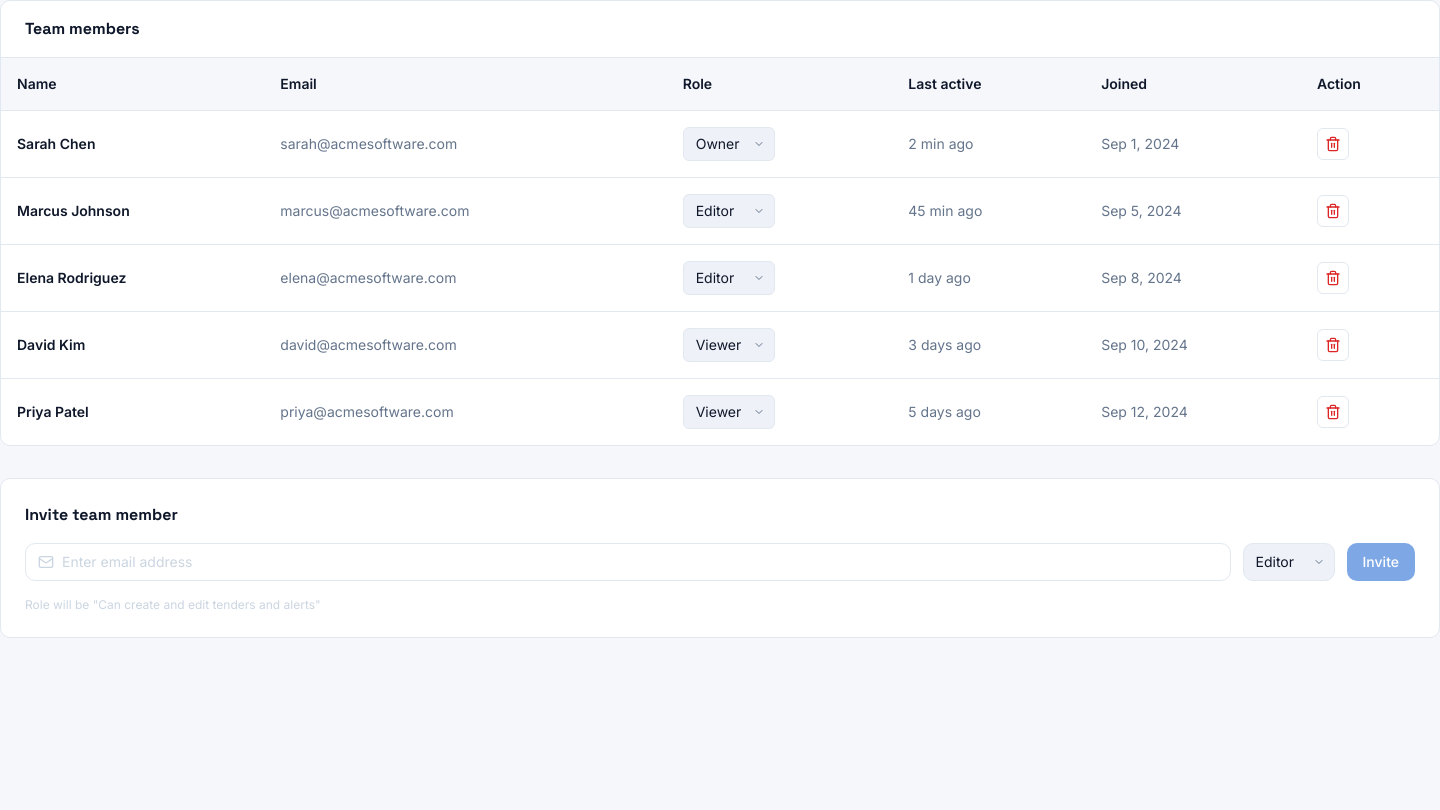
Test: TeamSection › allows canceling removal confirmation
The image size is (1440, 810).
Click the button titled "Remove member" in the row of "Sarah Chen" at (1333, 144), box top-left (1317, 128), bottom-right (1349, 160)
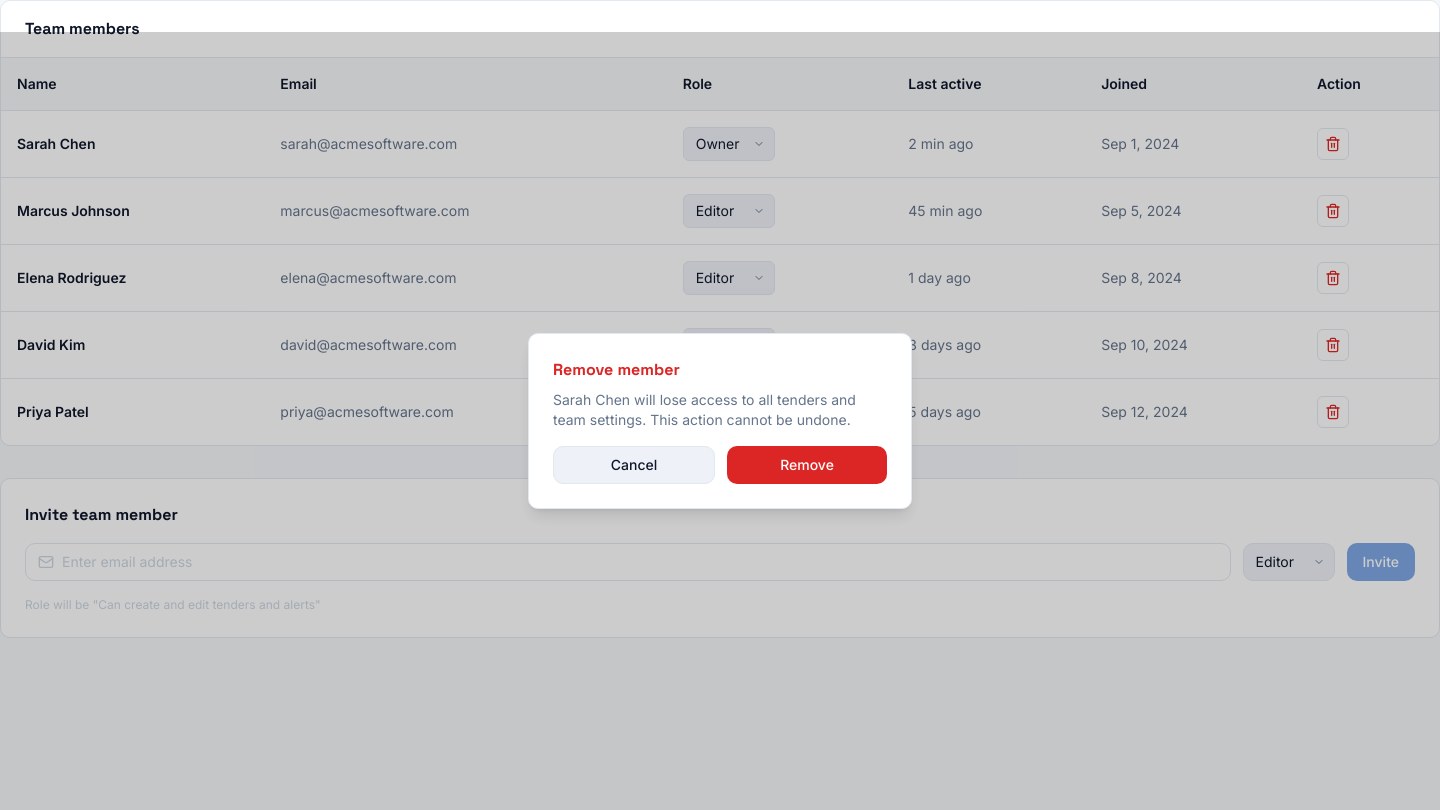
Expected: the text "Sarah Chen" is shown, top-left (1, 110), bottom-right (264, 178)
Result: the heading "Remove member" is shown at top-left (553, 359), bottom-right (680, 380)
